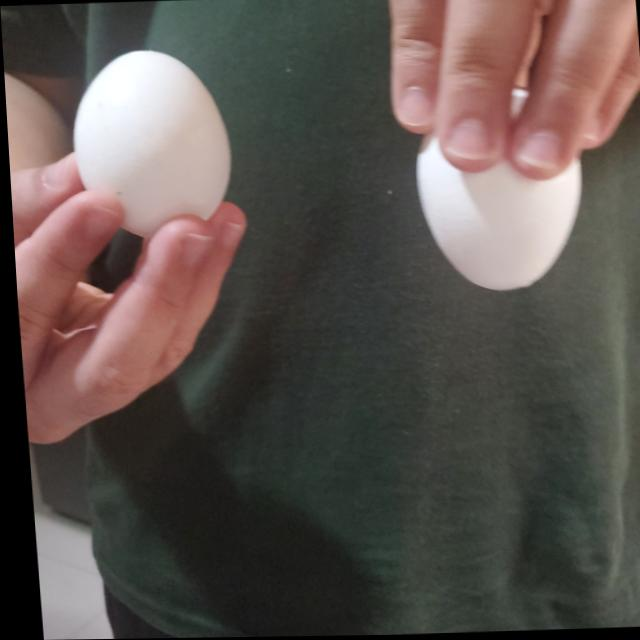egg: (402, 105, 584, 302), (67, 47, 232, 240)
